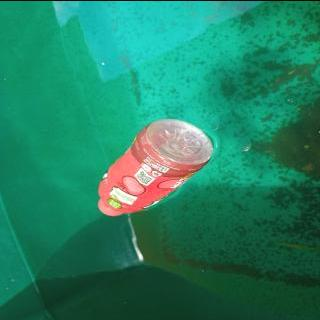bottle: (96, 117, 215, 215)
